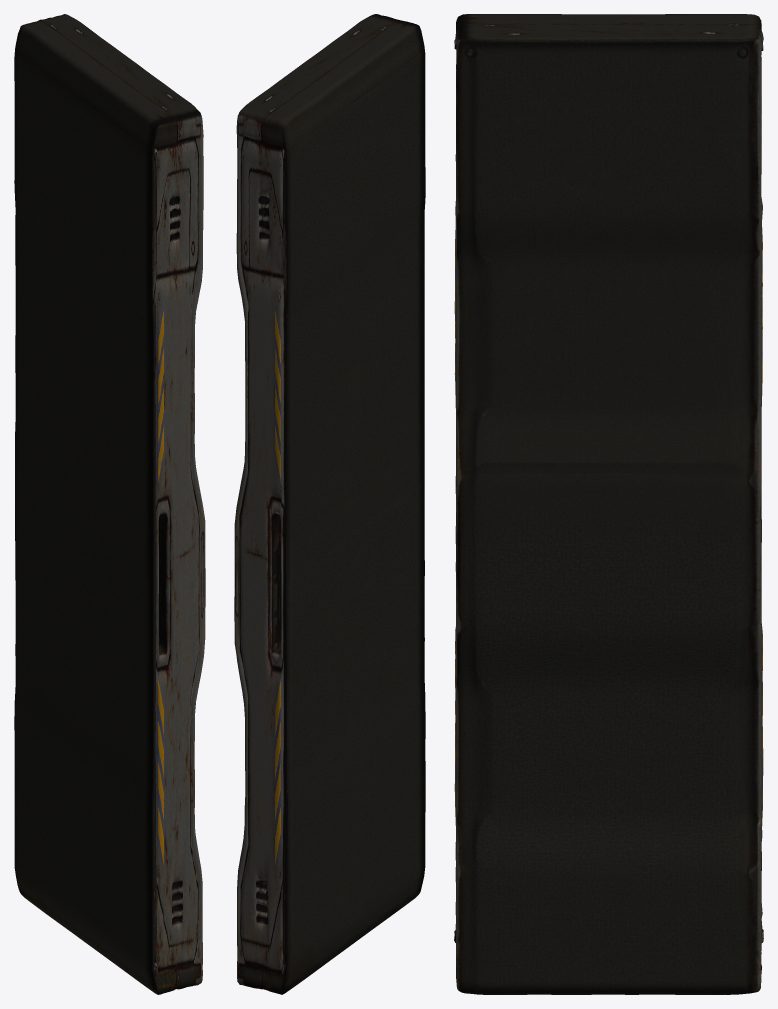
File: industrial+sci-fi+panel+3d+model.glb
The picture shows the model from 3 angles, left to right: view 1: azimuth 30°, elevation 25°; view 2: azimuth 150°, elevation 25°; view 3: azimuth 270°, elevation 25°; orthographic projection. The views are drawn at different scales.
Visible parts, largest first — view 1: tripo_node_85cd6b5f-58cd-4546-a8c2-739ae1565fa1; view 2: tripo_node_85cd6b5f-58cd-4546-a8c2-739ae1565fa1; view 3: tripo_node_85cd6b5f-58cd-4546-a8c2-739ae1565fa1.
Part boxes in pixels (box(x1,y1,x2,y2)): tripo_node_85cd6b5f-58cd-4546-a8c2-739ae1565fa1: box(14, 14, 205, 994); tripo_node_85cd6b5f-58cd-4546-a8c2-739ae1565fa1: box(234, 14, 425, 994); tripo_node_85cd6b5f-58cd-4546-a8c2-739ae1565fa1: box(454, 14, 763, 994).
Size of the model in its own units: 0.0658 by 0.9786 by 0.287.
Materials: 1 (1 with a texture image).
